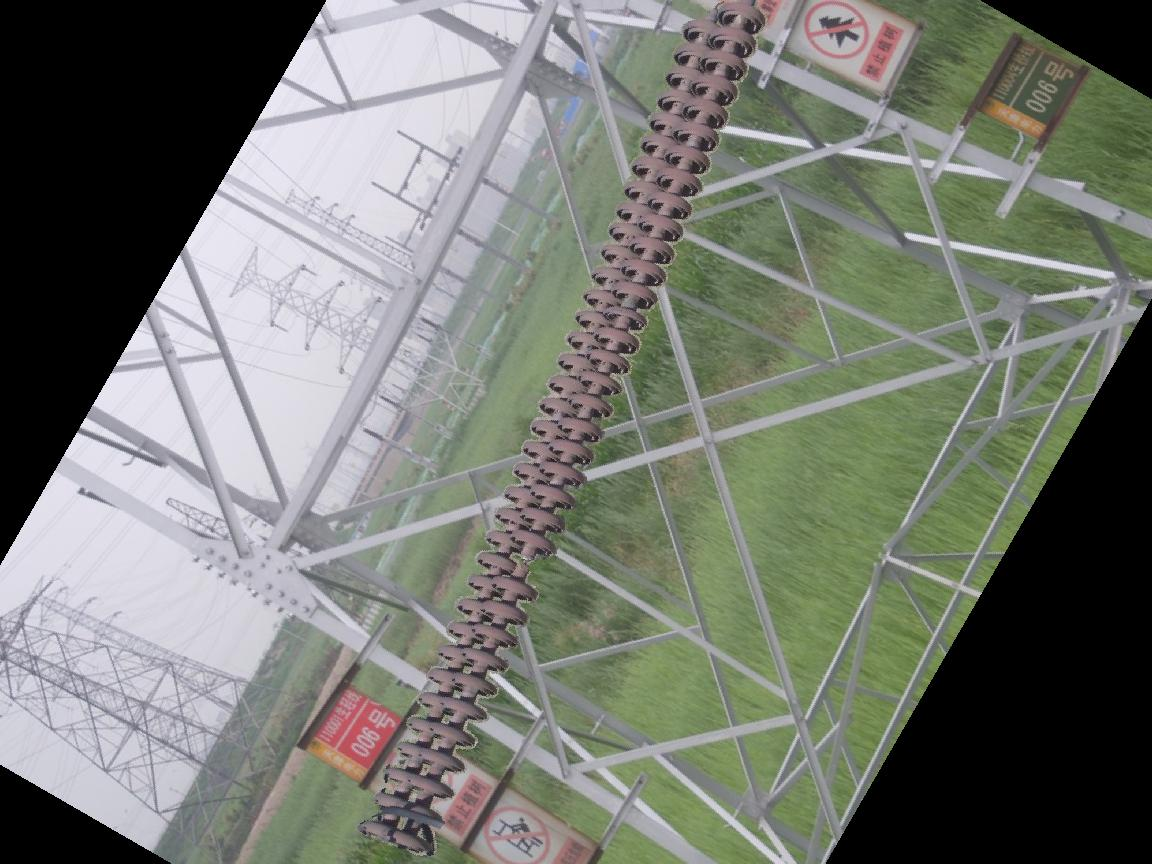insulator: (355, 1, 768, 858)
insulator_stringdrop: (489, 527, 558, 604)
